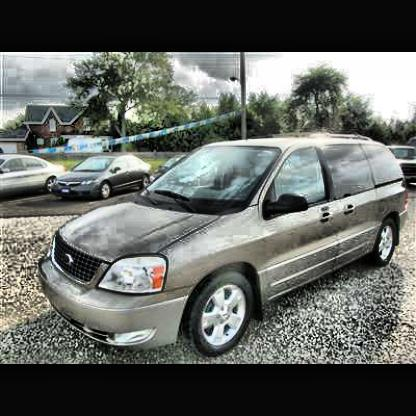Ford Freestar Minivan 2007: (36, 143, 410, 353)
